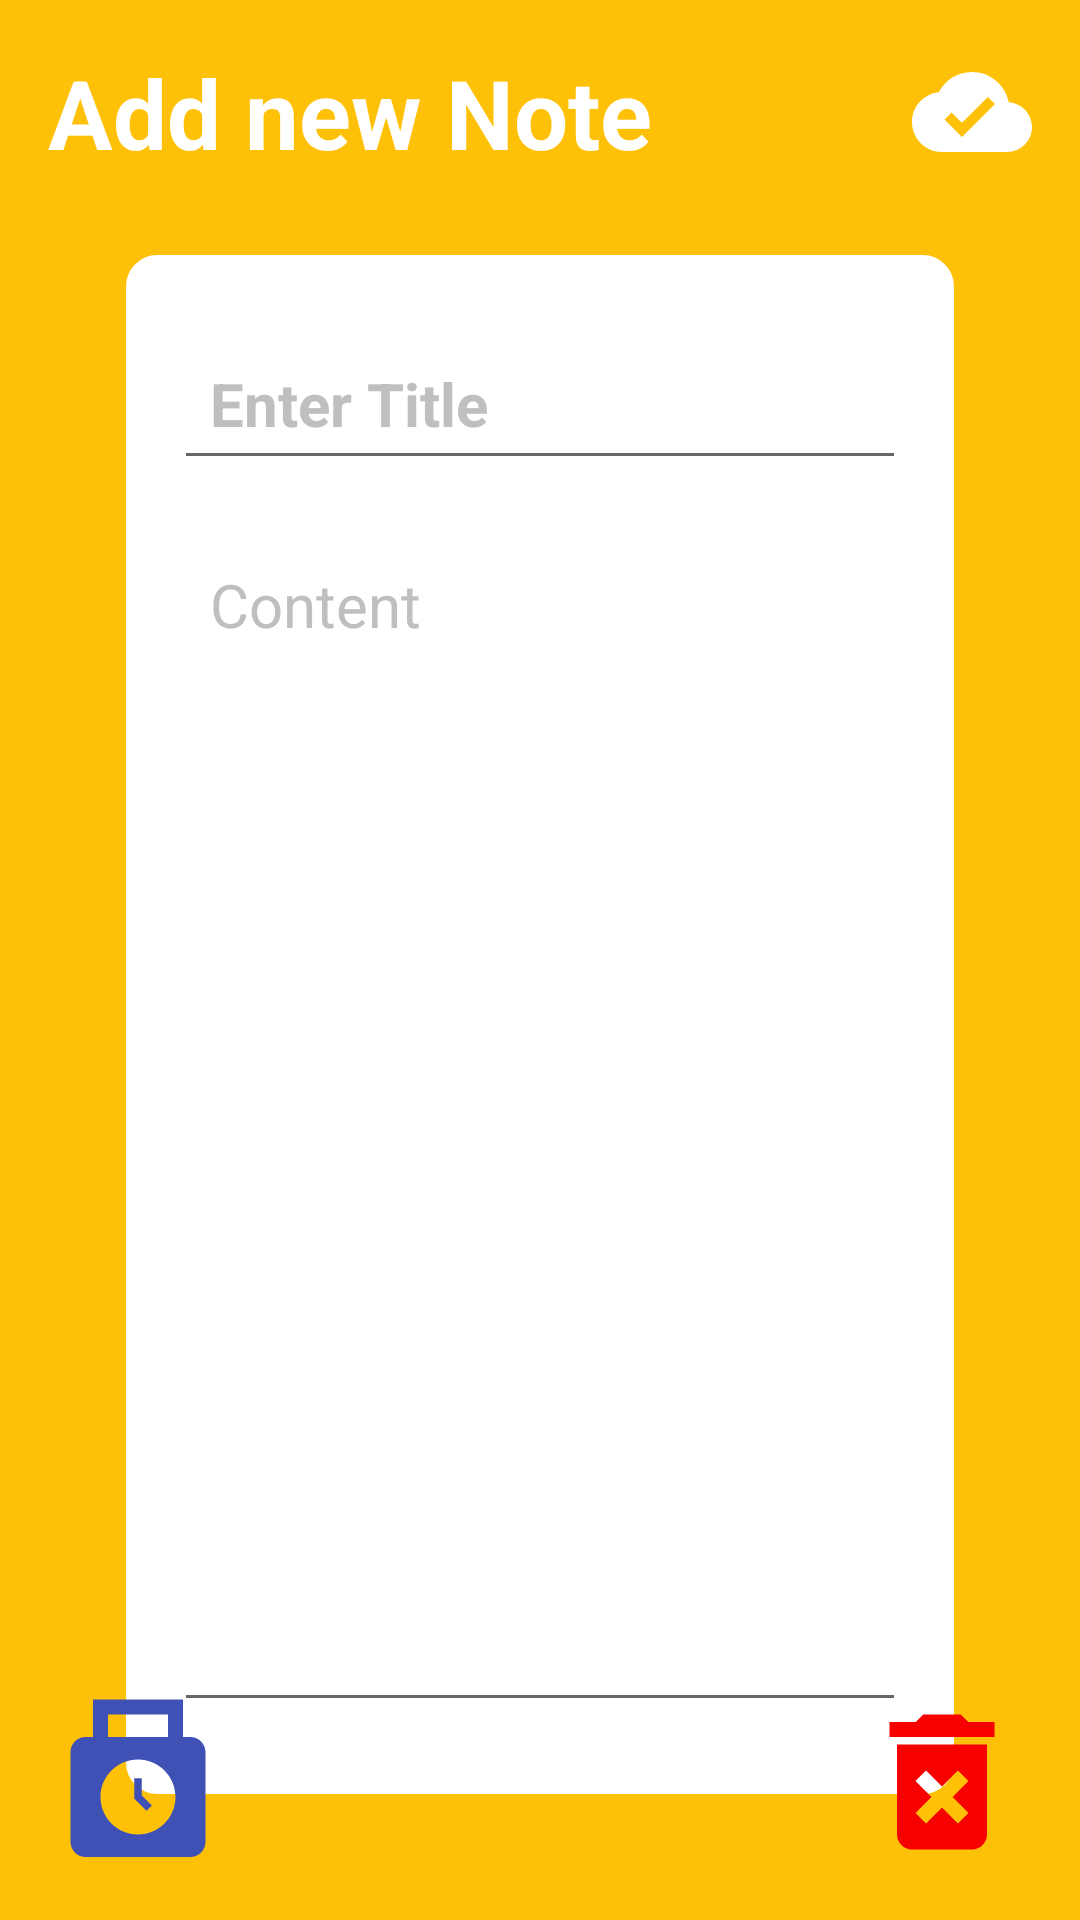

Where to tap for icons on this 1080px x 1920px app screen, as [x,y]:
cloud done: [972,112]
delete forever: [923,1771]
punch clock: [149,1774]
